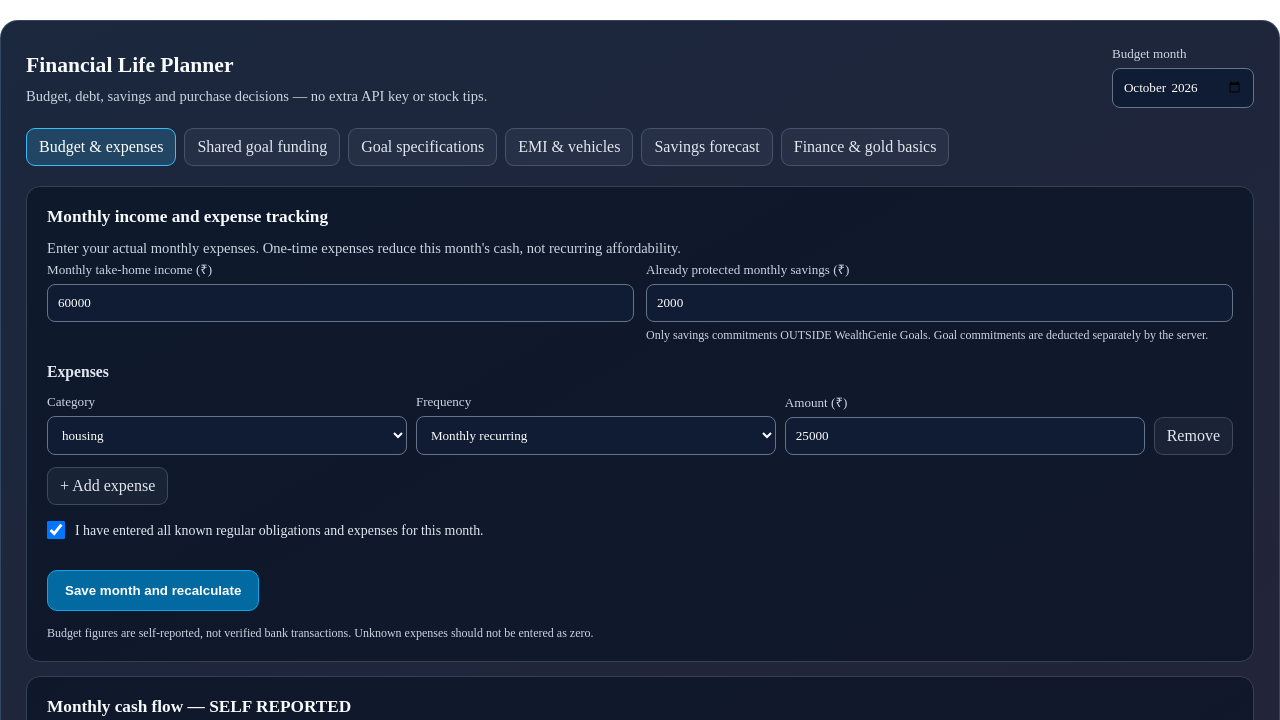
Test: Goal financial workspace — keyless budget and purchase flows › does not display a prior-month save after switching budget periods
Expected: the heading "Monthly income and expense tracking" is shown, [47, 207, 328, 226]
Click the button "Save month and recalculate" at [153, 591], box [47, 570, 259, 611]
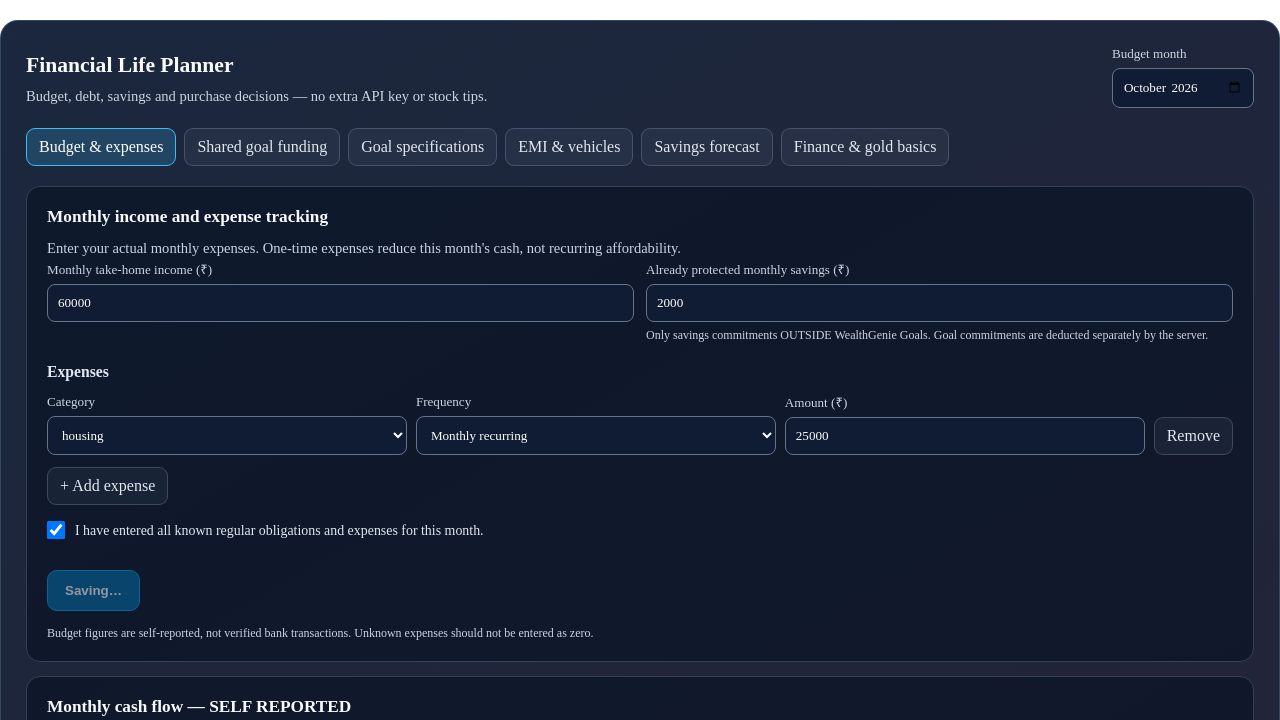
Replace the text in the field labelled "Budget month" with "2027-01" at [1183, 88], box [1112, 68, 1254, 108]
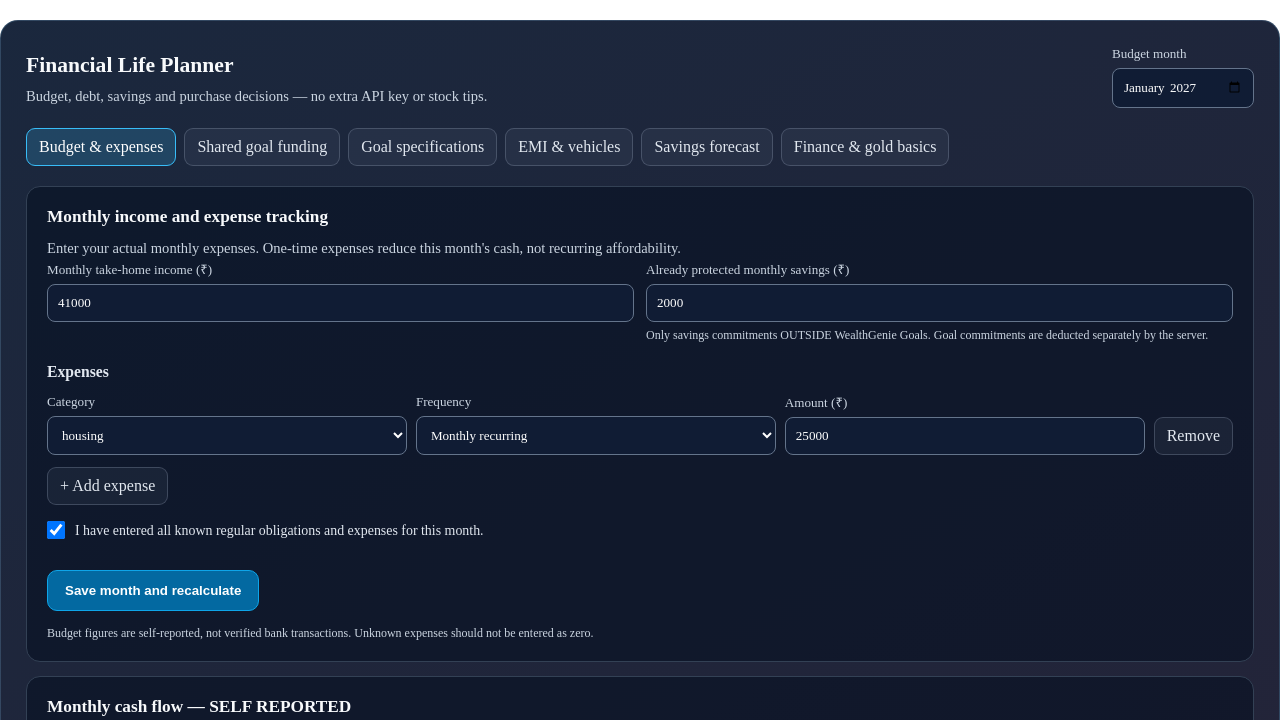
Result: the number field labelled "Monthly take-home income (₹)" holds "41000" at [47, 284, 634, 322]
